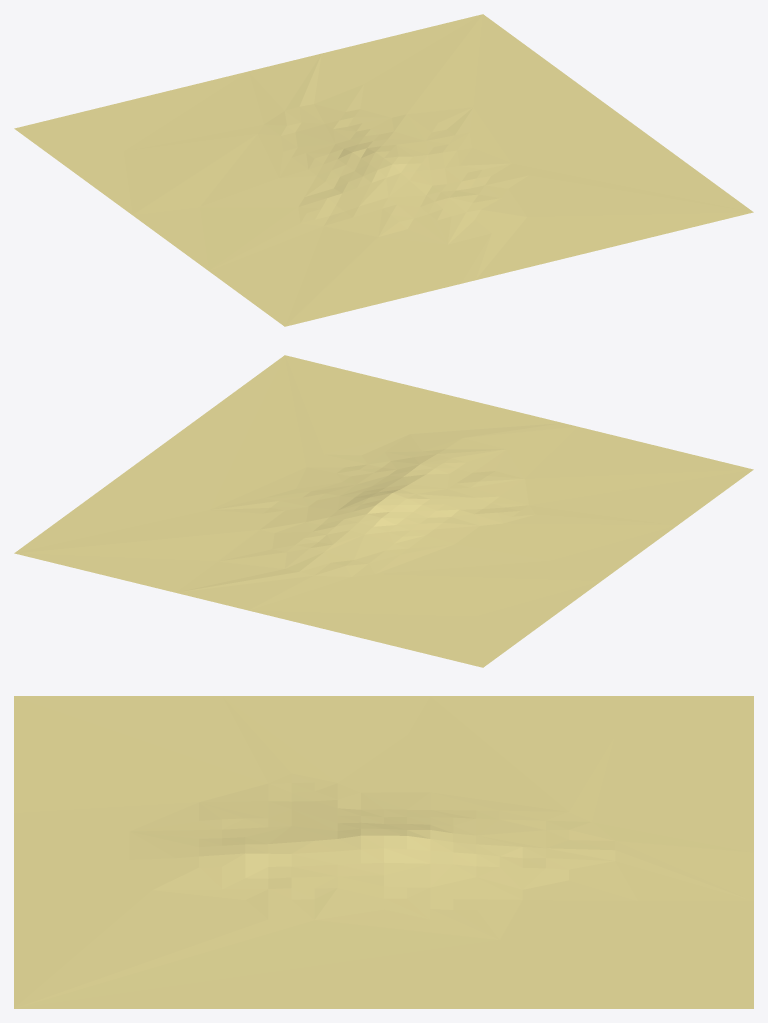
Rendered from Island_Terrain.FBX.
3 views of the same model, one above another, from view 1: azimuth 30°, elevation 25°; view 2: azimuth 150°, elevation 25°; view 3: azimuth 270°, elevation 25° (orthographic). The views are drawn at different scales.
Parts seen in each view (by area): view 1: Island_Terrain; view 2: Island_Terrain; view 3: Island_Terrain.
Boxes of the visible parts, box(x1,y1,x2,y2) form: Island_Terrain: box(14, 14, 753, 326); Island_Terrain: box(14, 355, 753, 667); Island_Terrain: box(14, 696, 753, 1008).
Size of the model in its own units: 1000 by 25.29 by 1000.
1 material, 1 textured.
